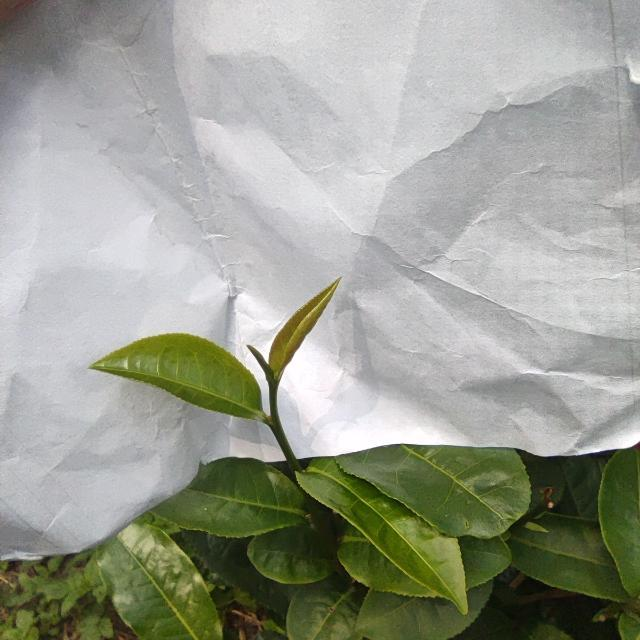Stem: (270, 417, 279, 428)
